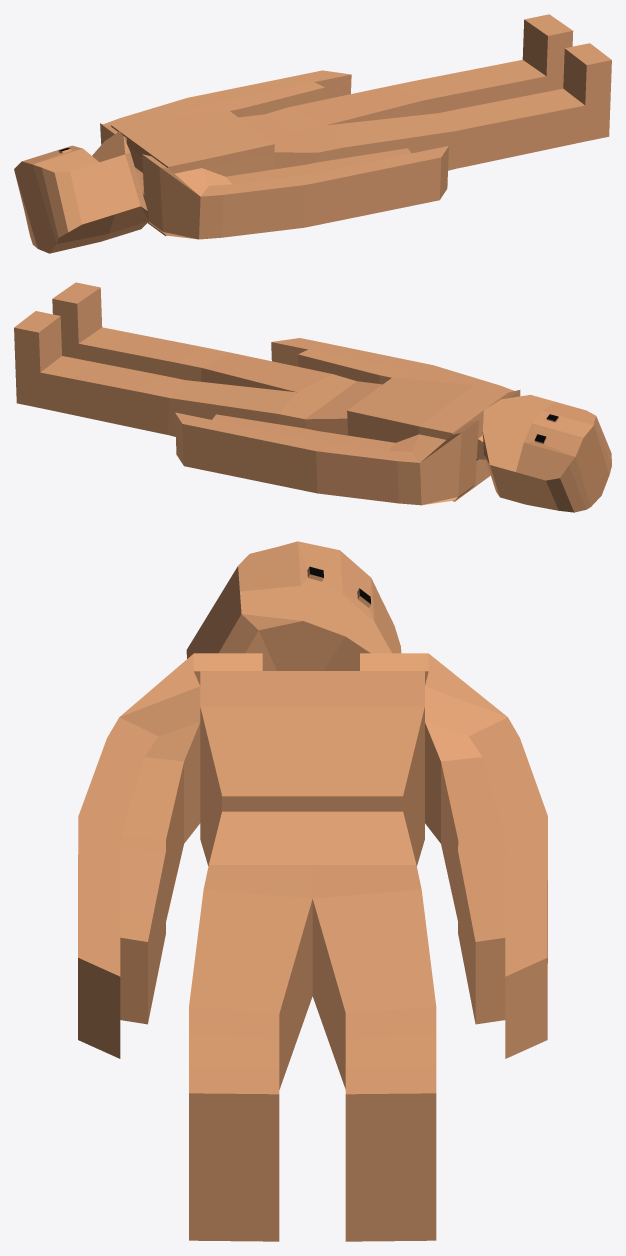
File: Ceset.fbx
3 views of the same model, one above another, from view 1: azimuth 30°, elevation 25°; view 2: azimuth 150°, elevation 25°; view 3: azimuth 270°, elevation 25° (orthographic). The views are drawn at different scales.
Visible parts, largest first — view 1: top; view 2: top; view 3: top.
Part boxes in pixels (<box>): top: <box>14,14,611,253</box>; top: <box>14,282,611,512</box>; top: <box>78,541,547,1241</box>.
Bounding box in the file's own units: 1266 × 200 × 472.
